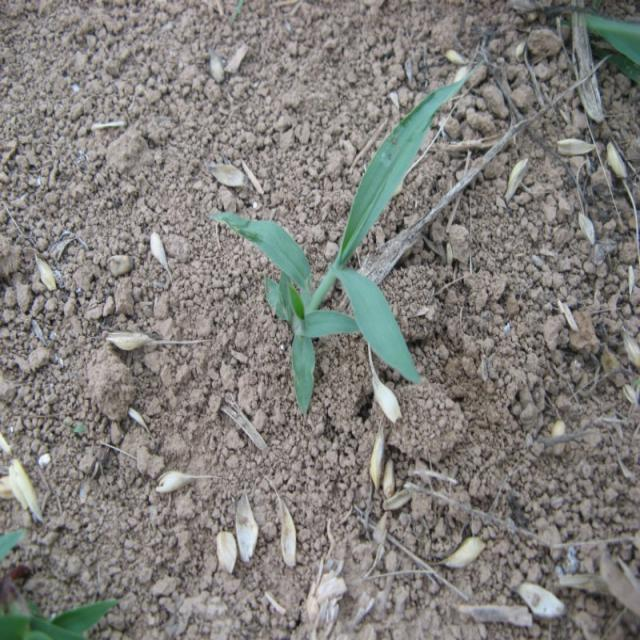bg: (213, 75, 468, 410)
